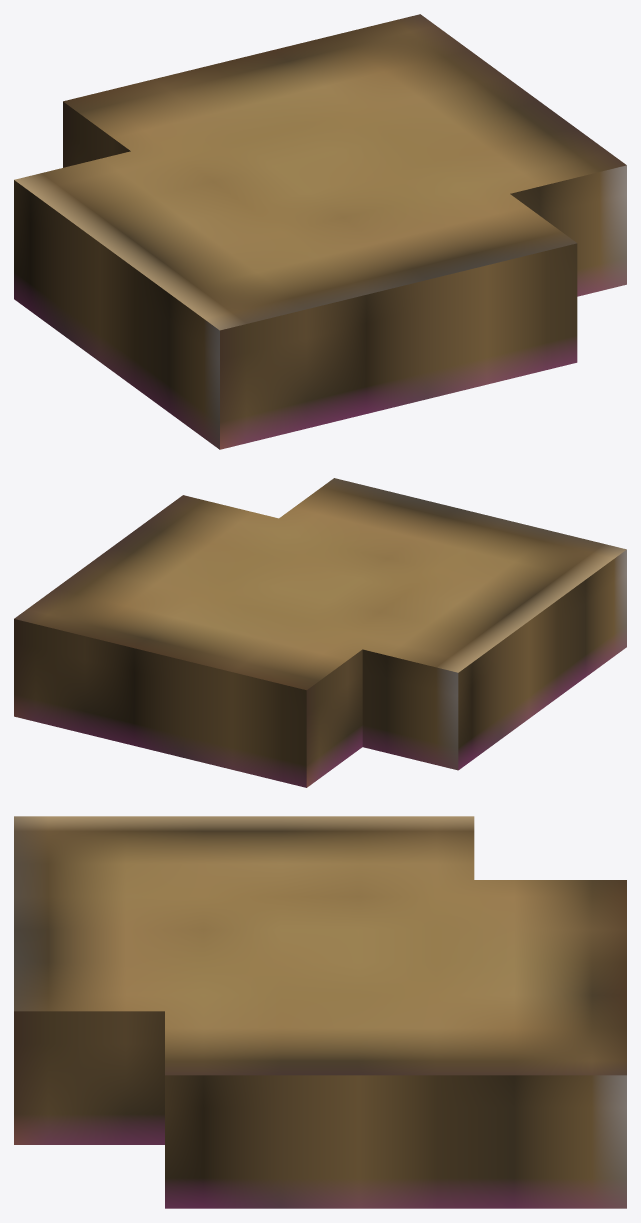
The model's file is Tree_Destroy_Step9.fbx.
3 renders of one model, top to bottom at view 1: azimuth 30°, elevation 25°; view 2: azimuth 150°, elevation 25°; view 3: azimuth 270°, elevation 25°, orthographic. The views are drawn at different scales.
Parts seen in each view (by area): view 1: Tree_Destroy_Step9; view 2: Tree_Destroy_Step9; view 3: Tree_Destroy_Step9.
Part boxes in pixels (x1,y1,x2,y2): Tree_Destroy_Step9: [14, 14, 626, 449]; Tree_Destroy_Step9: [14, 478, 626, 787]; Tree_Destroy_Step9: [14, 816, 626, 1208].
Size of the model in its own units: 25 by 6.01 by 25.
Materials: 1 (1 with a texture image).
